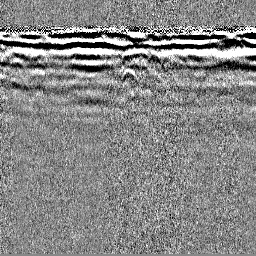cavity: (119, 67, 140, 88)
